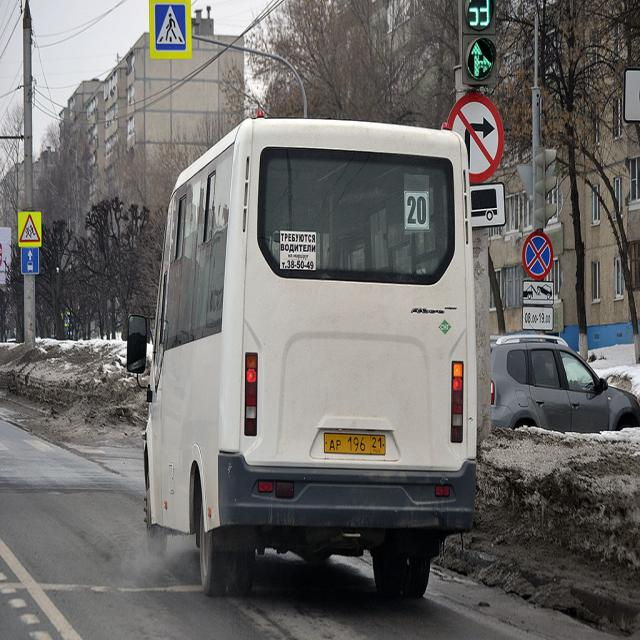number-of-bus: (407, 192, 429, 231)
